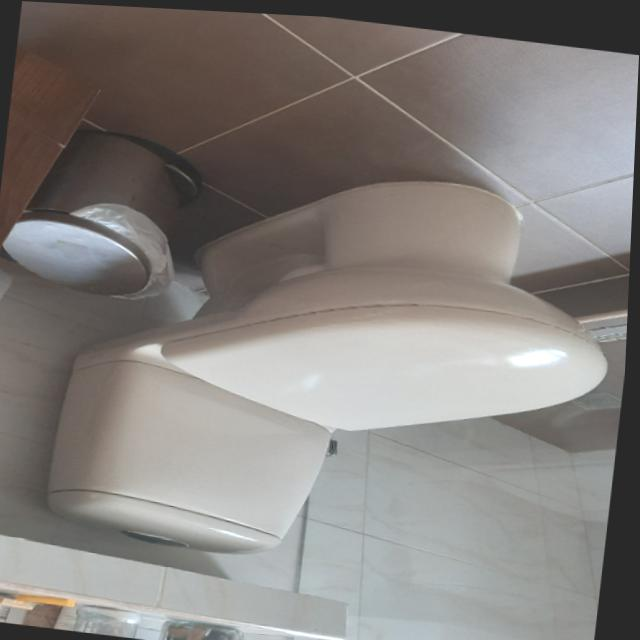toilet: (45, 135, 630, 593)
